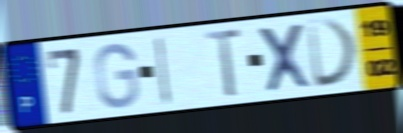7: (45, 47, 82, 117)
D: (304, 17, 361, 91)
G: (92, 41, 141, 111)
I: (154, 34, 173, 107)
T: (203, 26, 243, 101)
X: (255, 20, 315, 95)
